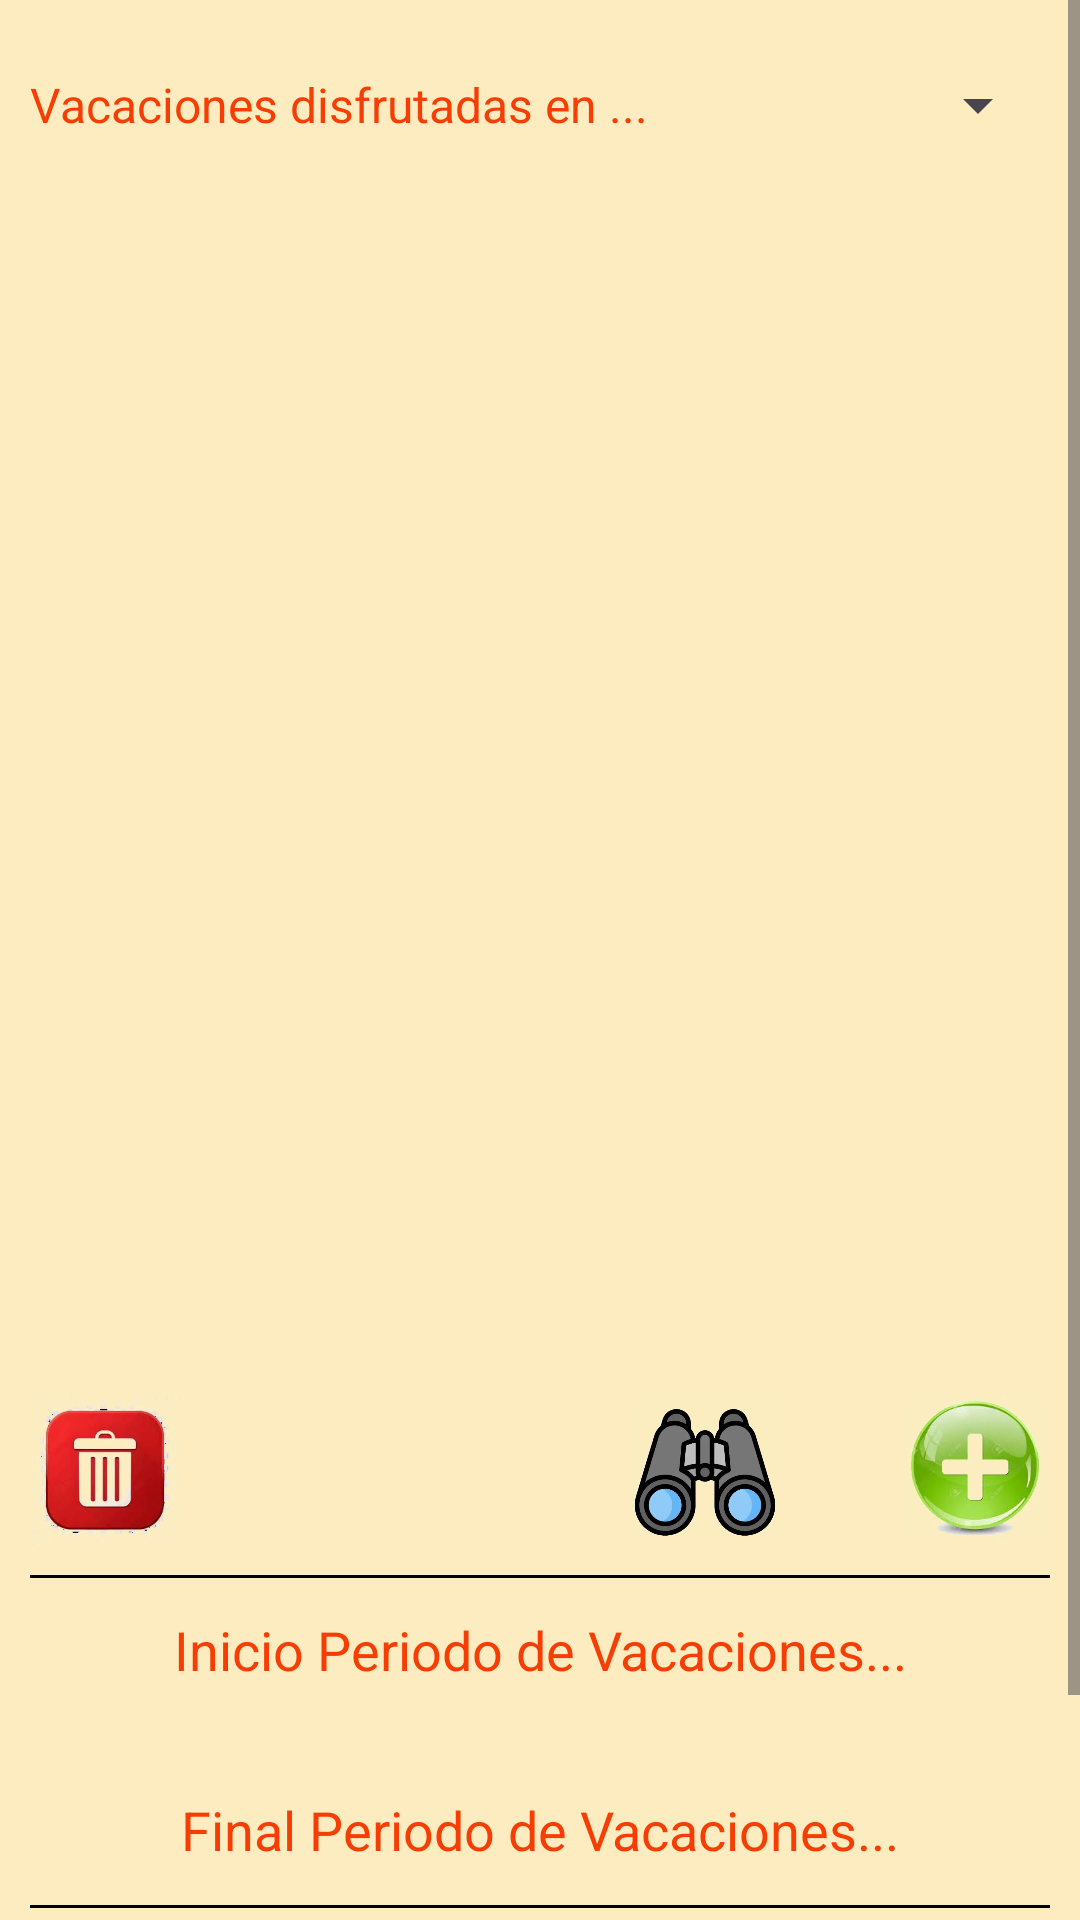

Screen size 1080x1920. Icon name, then its box in pixels as (x1, y1, x2, y2):
mas: (911, 1401, 1039, 1535)
papelera: (30, 1395, 180, 1545)
prismaticos: (635, 1409, 775, 1536)
